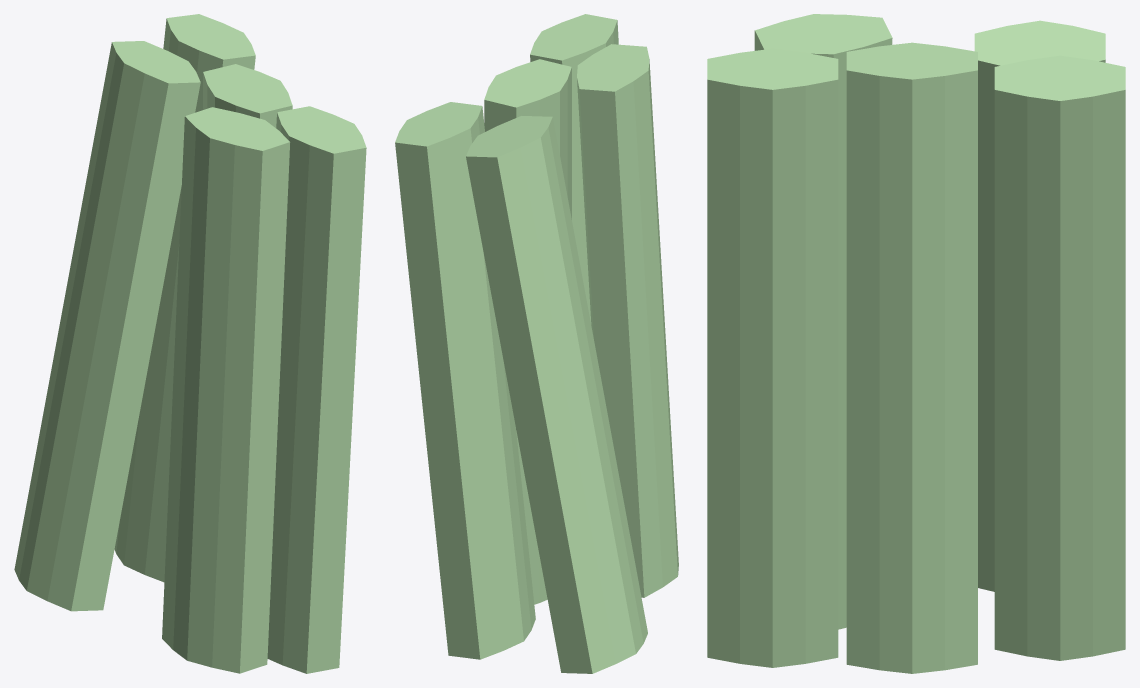
Rendered from cloth.fbx.
3 renders of one model, left to right at view 1: azimuth 30°, elevation 25°; view 2: azimuth 150°, elevation 25°; view 3: azimuth 270°, elevation 25°, orthographic. The views are drawn at different scales.
Parts seen in each view (by area): view 1: Cube; view 2: Cube; view 3: Cube.
Boxes of the visible parts, left/top/right/bottom form: Cube: left=14, top=14, right=366, bottom=673; Cube: left=395, top=14, right=678, bottom=673; Cube: left=707, top=14, right=1125, bottom=673.
Bounding box in the file's own units: 95.72 × 151 × 68.87.
